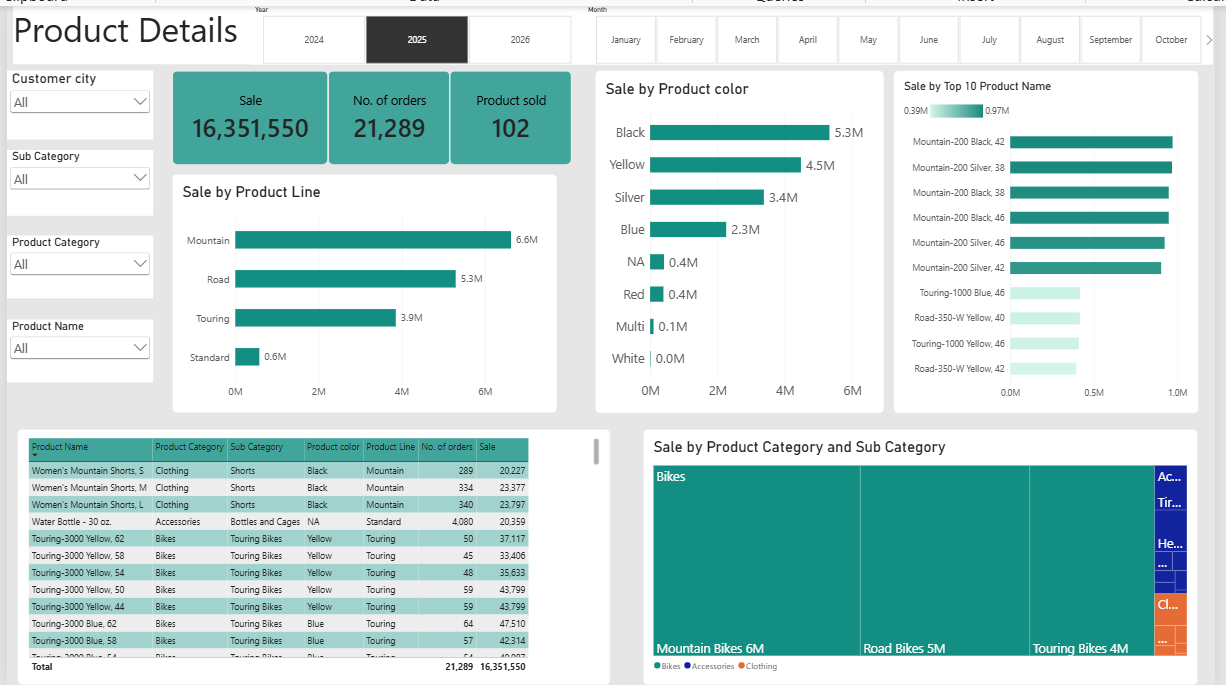

What the dashboard file says about the page in this screenshot:
{"tool":"powerbi","page":{"name":"Product Details","canvas":[1920,1080],"ordinal":2},"visuals":[{"type":"textbox","box":[10,0,280,280],"z":0},{"type":"textbox","box":[10,0,1884.2,92.5],"z":1000},{"type":"slicer","fields":{"Values":["Dim_Customer.Customer city"]},"box":[0,102.5,232.4,110],"z":2000},{"type":"slicer","fields":{"Values":["Dim_Products.Sub Category"]},"box":[0,229.9,232.4,105],"z":3000},{"type":"slicer","fields":{"Values":["Dim_Products.Product Category"]},"box":[0,364.8,232.4,100],"z":4000},{"type":"slicer","fields":{"Values":["Dim_Products.Product Name"]},"box":[0,499.8,232.4,100],"z":5000},{"type":"slicer","fields":{"Values":["Dim_Calendar.Year"]},"box":[354.8,0,782.2,92.5],"z":6000},{"type":"slicer","fields":{"Values":["Dim_Calendar.Month"]},"box":[1137,0,782.2,92.5],"z":7000},{"type":"barChart","title":"Sale by Top 10 Product Name","fields":{"Category":["Dim_Products.Product Name"],"Y":["Key Measures.Sale"]},"box":[1410,102.5,485,545],"z":14000},{"type":"cardVisual","fields":{"Data":["Key Measures.Sale"]},"box":[262,102,248,150],"z":15001},{"type":"cardVisual","fields":{"Data":["Key Measures.No. of orders"]},"box":[510,102,194,150],"z":15002},{"type":"cardVisual","fields":{"Data":["Key Measures.Product sold"]},"box":[704,102,194,150],"z":15003},{"type":"treemap","fields":{"Details":["Dim_Products.Sub Category"],"Group":["Dim_Products.Product Category"],"Values":["Key Measures.Sale"]},"box":[1012.5,672.5,882.5,407.5],"z":15004},{"type":"clusteredBarChart","fields":{"Category":["Dim_Products.Product color"],"Y":["Key Measures.Sale"]},"box":[935,102.5,460,545],"z":15005},{"type":"clusteredBarChart","fields":{"Category":["Dim_Products.Product Line"],"Y":["Key Measures.Sale"]},"box":[262.5,267.5,612.5,380],"z":15006},{"type":"tableEx","fields":{"Values":["Dim_Products.Product Name","Dim_Products.Product Category","Dim_Products.Sub Category","Dim_Products.Product color","Dim_Products.Product Line","Key Measures.No. of orders","Key Measures.Sale"]},"box":[17.5,672.5,942.5,407.5],"z":15007}]}

Visuals, with their boxes on the page's 1920x1080 design canvas (x1, y1, x2, y2). These are canvas units, not pixel positions in the 1226x685 screenshot, which may show the page scaled, cropped or inside an application window:
textbox: (10,0,290,280)
textbox: (10,0,1894,92)
slicer - Dim_Customer.Customer city: (0,102,232,212)
slicer - Dim_Products.Sub Category: (0,230,232,335)
slicer - Dim_Products.Product Category: (0,365,232,465)
slicer - Dim_Products.Product Name: (0,500,232,600)
slicer - Dim_Calendar.Year: (355,0,1137,92)
slicer - Dim_Calendar.Month: (1137,0,1919,92)
"Sale by Top 10 Product Name" barChart: (1410,102,1895,648)
cardVisual - Key Measures.Sale: (262,102,510,252)
cardVisual - Key Measures.No. of orders: (510,102,704,252)
cardVisual - Key Measures.Product sold: (704,102,898,252)
treemap - Dim_Products.Sub Category x Dim_Products.Product Category: (1012,672,1895,1080)
clusteredBarChart - Dim_Products.Product color x Key Measures.Sale: (935,102,1395,648)
clusteredBarChart - Dim_Products.Product Line x Key Measures.Sale: (262,268,875,648)
tableEx - Dim_Products.Product Name x Dim_Products.Product Category: (18,672,960,1080)
